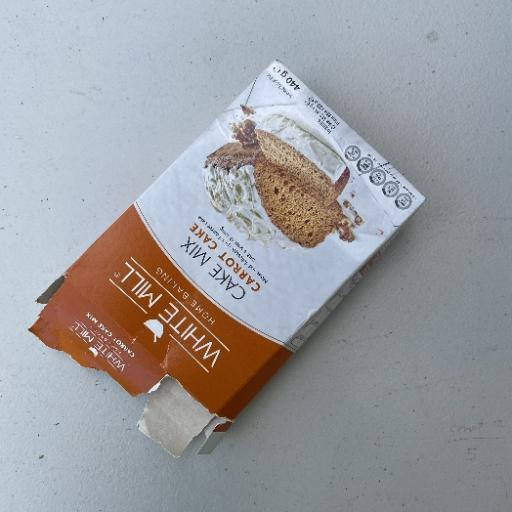Cardboard: (26, 58, 427, 457)
